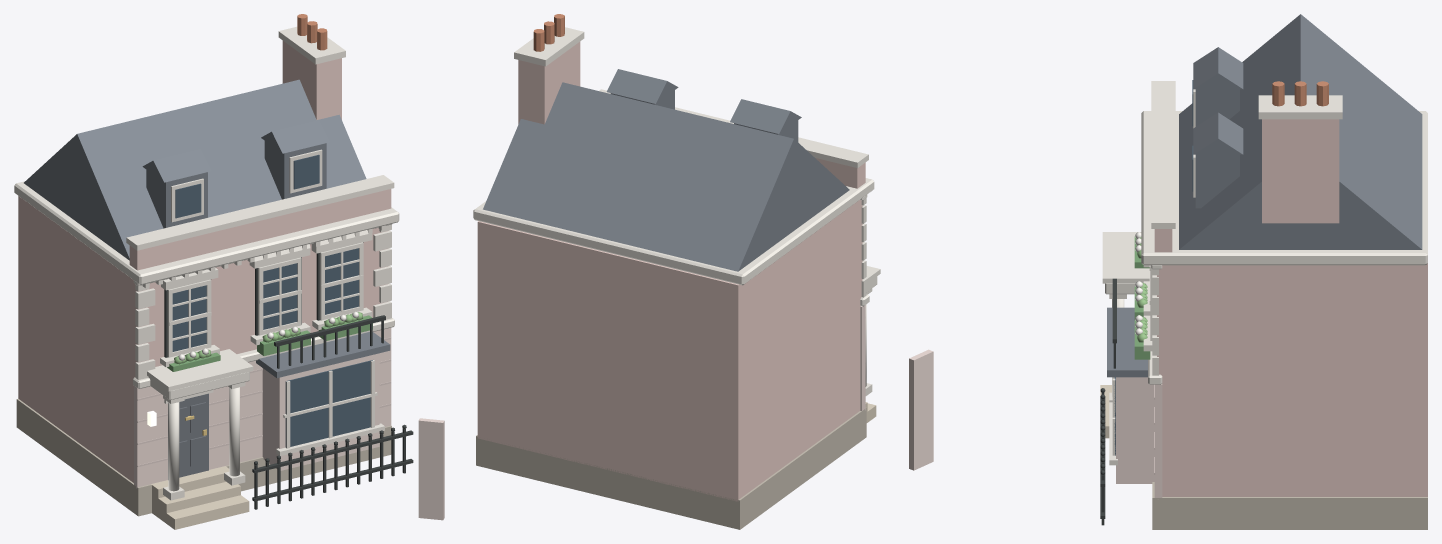
Rendered from terrace-b-2.glb.
3 views of the same model, side by side, from view 1: azimuth 30°, elevation 25°; view 2: azimuth 150°, elevation 25°; view 3: azimuth 270°, elevation 25° (orthographic). The views are drawn at different scales.
Visible parts, largest first — view 1: terrace-b-2; view 2: terrace-b-2; view 3: terrace-b-2.
Boxes of the visible parts, <box> form: terrace-b-2: <box>14,14,444,529</box>; terrace-b-2: <box>473,14,880,529</box>; terrace-b-2: <box>909,14,1427,529</box>.
Size of the model in its own units: 3.08 by 4.37 by 4.69.
